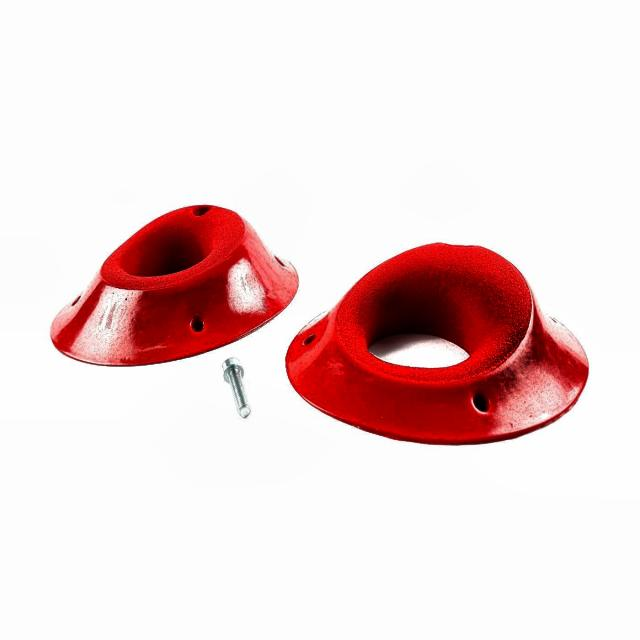Hold: (289, 240, 591, 448), (48, 204, 300, 366)
